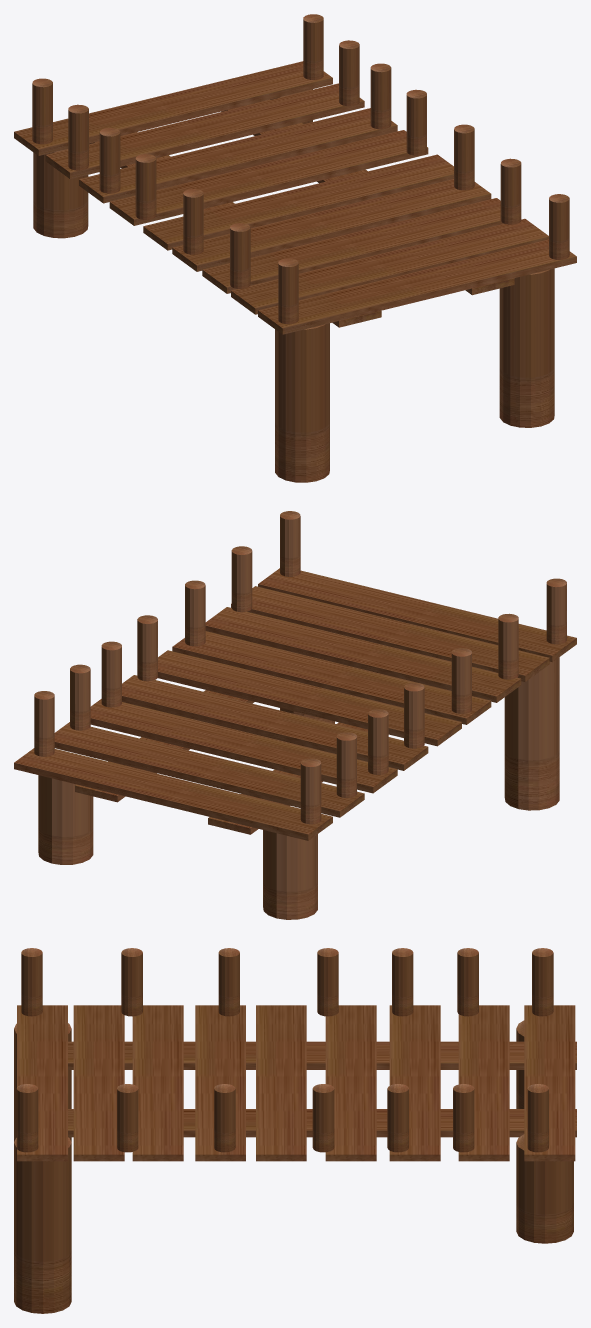
The model's file is dock.glb.
3 views of the same model, one above another, from view 1: azimuth 30°, elevation 25°; view 2: azimuth 150°, elevation 25°; view 3: azimuth 270°, elevation 25° (orthographic). The views are drawn at different scales.
Parts seen in each view (by area): view 1: Cylinder.015; view 2: Cylinder.015; view 3: Cylinder.015.
Boxes of the visible parts, x1,y1,x2,y2 form: Cylinder.015: [14, 14, 576, 482]; Cylinder.015: [14, 511, 576, 919]; Cylinder.015: [14, 948, 576, 1313].
Size of the model in its own units: 12.25 by 8.64 by 19.52.
1 material, 1 textured.
